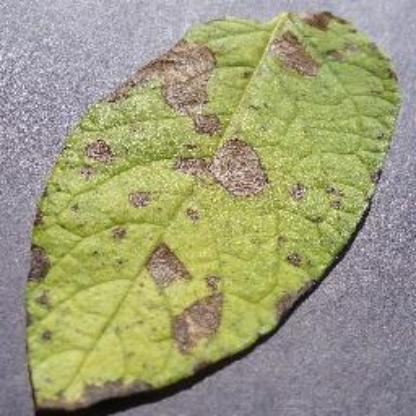Early-Blight: (22, 13, 402, 412)
